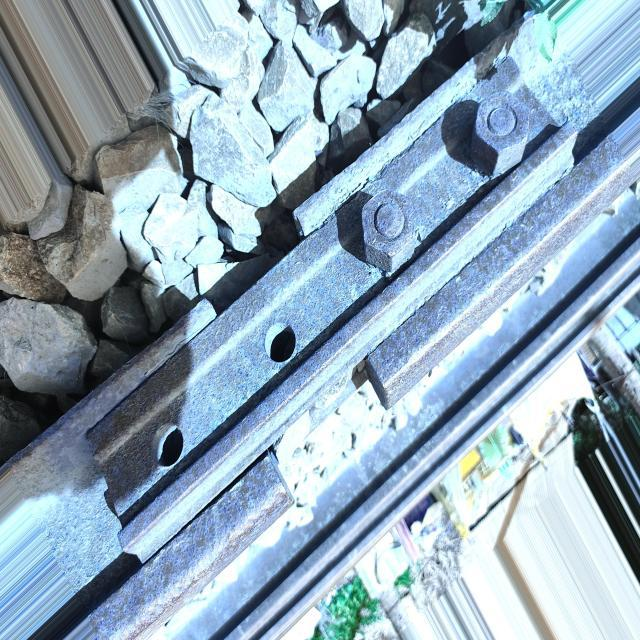Defective Joint: (78, 51, 578, 572)
